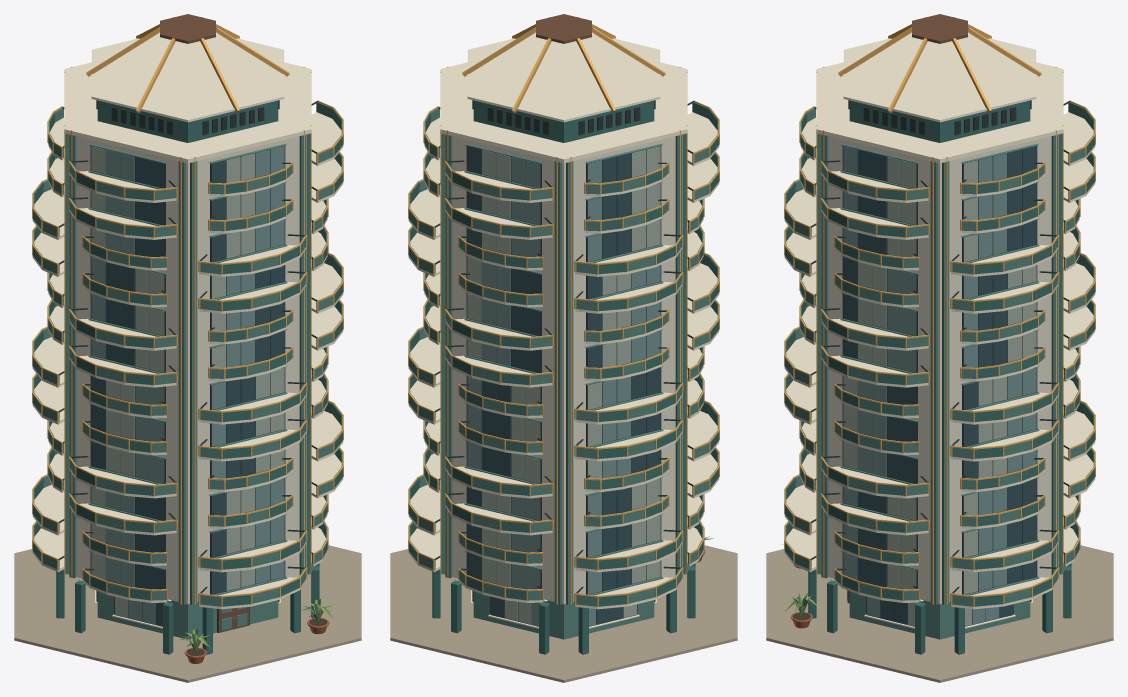
The picture shows the model from 3 angles, left to right: view 1: azimuth 30°, elevation 25°; view 2: azimuth 150°, elevation 25°; view 3: azimuth 270°, elevation 25°; orthographic projection.
Parts seen in each view (by area): view 1: Pleated loggias, Casements and sills, Hexagonal apartment core, Lantern crown, Arrival court, Potted pandan, Entrance joinery; view 2: Pleated loggias, Casements and sills, Hexagonal apartment core, Lantern crown, Arrival court; view 3: Pleated loggias, Casements and sills, Hexagonal apartment core, Lantern crown, Arrival court, Potted pandan.
Part boxes in pixels (<box>): Pleated loggias: <box>32,100,343,609</box>; Casements and sills: <box>88,143,287,628</box>; Hexagonal apartment core: <box>64,66,311,639</box>; Lantern crown: <box>64,14,311,163</box>; Arrival court: <box>14,545,361,682</box>; Potted pandan: <box>179,599,333,663</box>; Entrance joinery: <box>217,606,249,632</box>; Pleated loggias: <box>408,100,719,609</box>; Casements and sills: <box>464,143,663,628</box>; Hexagonal apartment core: <box>440,66,687,639</box>; Lantern crown: <box>440,14,687,163</box>; Arrival court: <box>390,545,737,682</box>; Pleated loggias: <box>784,100,1095,609</box>; Casements and sills: <box>840,143,1039,628</box>; Hexagonal apartment core: <box>816,66,1063,639</box>; Lantern crown: <box>816,14,1063,163</box>; Arrival court: <box>766,545,1113,682</box>; Potted pandan: <box>781,544,820,628</box>.
Size of the model in its own units: 28.91 by 45.43 by 25.04.
